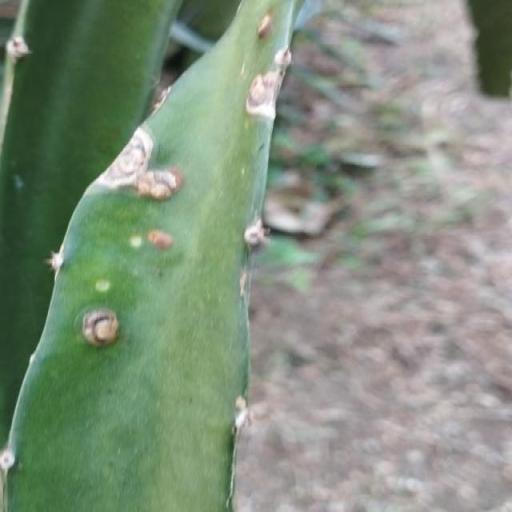stemcanker: (223, 67, 245, 121), (223, 29, 239, 62)
